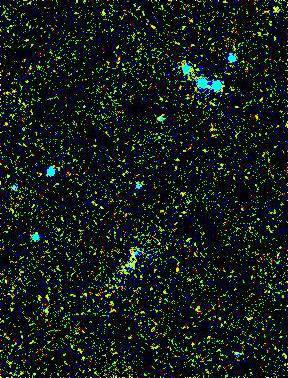star: (240, 101, 270, 131)
